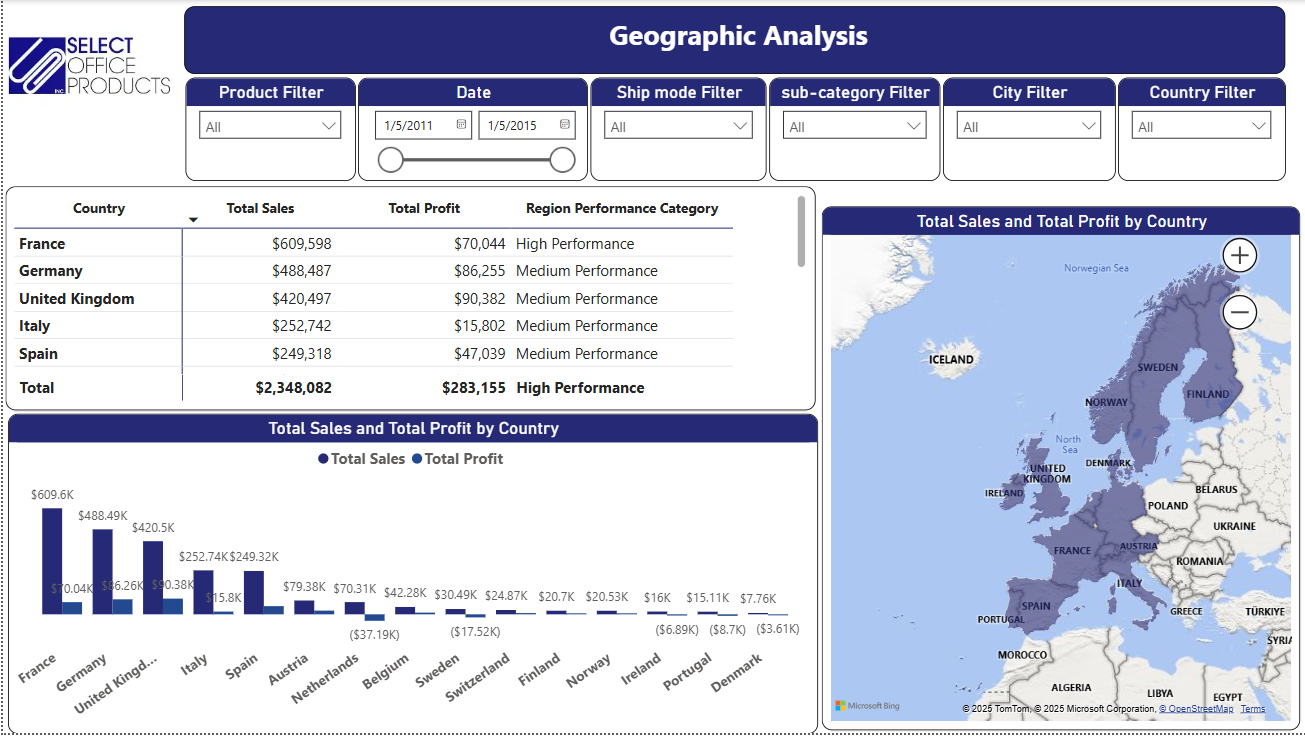

This screenshot's page, from the dashboard's own definition file:
{"tool":"powerbi","page":{"name":" Geographic Analysis","canvas":[1280,720],"ordinal":10},"visuals":[{"type":"textbox","box":[177.9,6.1,1081,66.3],"z":0},{"type":"image","box":[0,4.9,169.3,122.7],"z":1000},{"type":"slicer","title":"Country Filter","fields":{"Values":["Country.Country"]},"box":[1094.5,76.1,164.4,101.8],"z":2000},{"type":"slicer","title":"City Filter","fields":{"Values":["City.City"]},"box":[922.7,76.1,169.3,101.8],"z":3000},{"type":"slicer","title":"sub-category Filter","fields":{"Values":["Sub-Category.Sub-Category"]},"box":[752.2,76.1,168.1,101.8],"z":4000},{"type":"slicer","title":"Ship mode Filter","fields":{"Values":["Ship Mode.Ship Mode"]},"box":[576.7,76.1,173,101.8],"z":5000},{"type":"slicer","title":"Date","fields":{"Values":["Dim_date.Date"]},"box":[348.5,76.1,225.8,101.8],"z":6000},{"type":"slicer","title":"Product Filter","fields":{"Values":["Product.Product Name"]},"box":[179.1,76.1,166.9,101.8],"z":7000},{"type":"clusteredColumnChart","fields":{"Category":["Country.Country"],"Y":["_Measures.Total Sales","_Measures.Total Profit"]},"box":[4.9,405.9,795.1,314.1],"z":8000},{"type":"filledMap","fields":{"Category":["Country.Country"]},"box":[803.7,202.5,469.9,514.1],"z":9000},{"type":"pivotTable","title":"Identify regions with the highest and lowest performance.","fields":{"Rows":["Country.Country"],"Values":["_Measures.Total Sales","_Measures.Total Profit","_Measures.Region Performance Category"]},"box":[2.5,182.8,795.1,219.6],"z":10000}]}

Visuals, with their boxes in screenshot pixels (x1, y1, x2, y2), scaled from the page's 1280x720 canvas onto the 1305x737 screenshot:
textbox: Rect(181, 6, 1283, 74)
image: Rect(0, 5, 173, 131)
"Country Filter" slicer: Rect(1116, 78, 1283, 182)
"City Filter" slicer: Rect(941, 78, 1113, 182)
"sub-category Filter" slicer: Rect(767, 78, 938, 182)
"Ship mode Filter" slicer: Rect(588, 78, 764, 182)
"Date" slicer: Rect(355, 78, 586, 182)
"Product Filter" slicer: Rect(183, 78, 353, 182)
clusteredColumnChart - Country.Country x _Measures.Total Sales: Rect(5, 415, 816, 736)
filledMap - Country.Country: Rect(819, 207, 1298, 734)
"Identify regions with the highest and lowest performance." pivotTable: Rect(3, 187, 813, 412)
